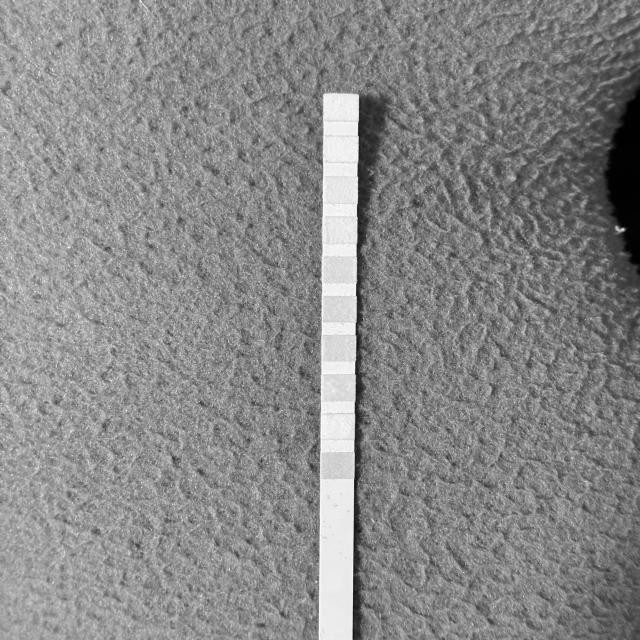Bilirubin: (322, 414, 354, 439)
Blood: (323, 296, 355, 322)
Glucose: (322, 452, 354, 478)
Ketone: (322, 376, 354, 400)
Leukocytes: (324, 94, 358, 120)
Nitrite: (325, 137, 357, 161)
Protein: (322, 216, 357, 244)
SpGravity: (322, 336, 356, 360)
Urobilinogen: (324, 177, 358, 203)
background: (0, 0, 640, 640)
pH: (323, 257, 356, 283)
strip: (322, 93, 359, 636)
